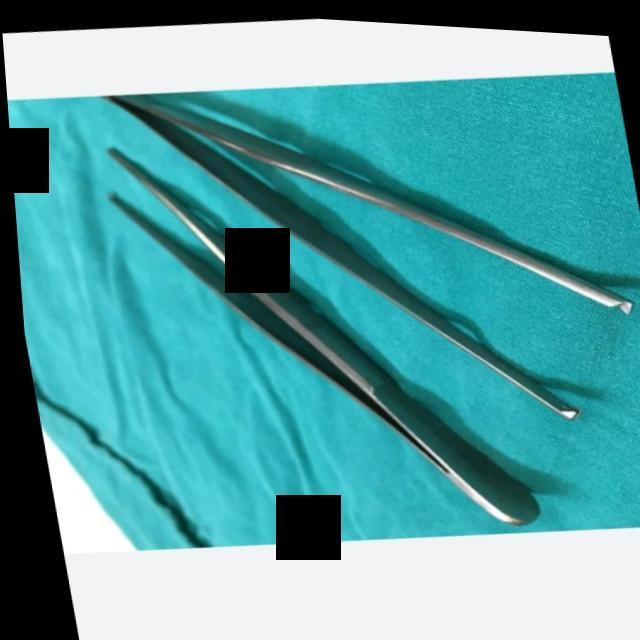Disscting Forceps -Plain-: (76, 105, 538, 558)
Disscting Forceps -tooth-: (90, 39, 640, 458)
